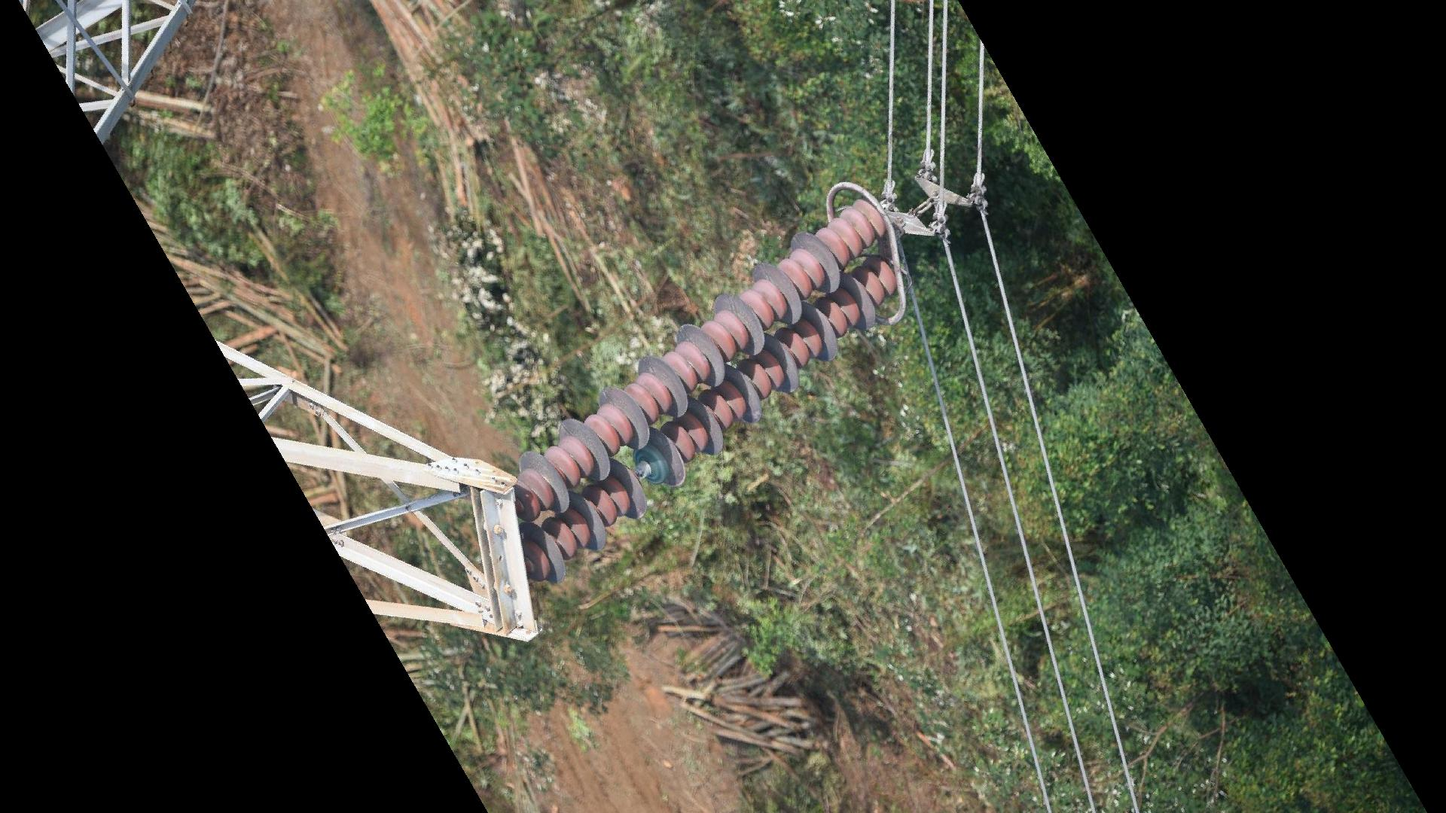insulator: (505, 190, 906, 590)
insulator_stringdrop: (604, 442, 671, 517)
